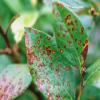Tomato Septoria leaf spot: (23, 25, 77, 99), (50, 1, 88, 78)
